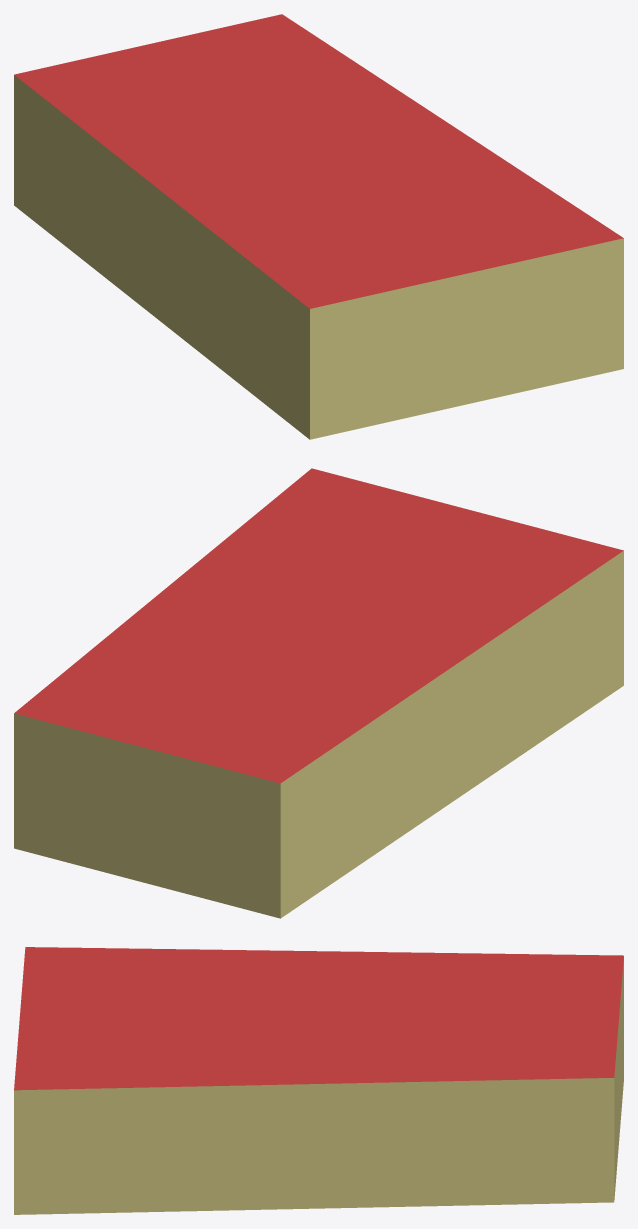
3 renders of one model, top to bottom at view 1: azimuth 30°, elevation 25°; view 2: azimuth 150°, elevation 25°; view 3: azimuth 270°, elevation 25°, orthographic. The views are drawn at different scales.
Size of the model in its own units: 10.53 by 18.94 by 4.27.
